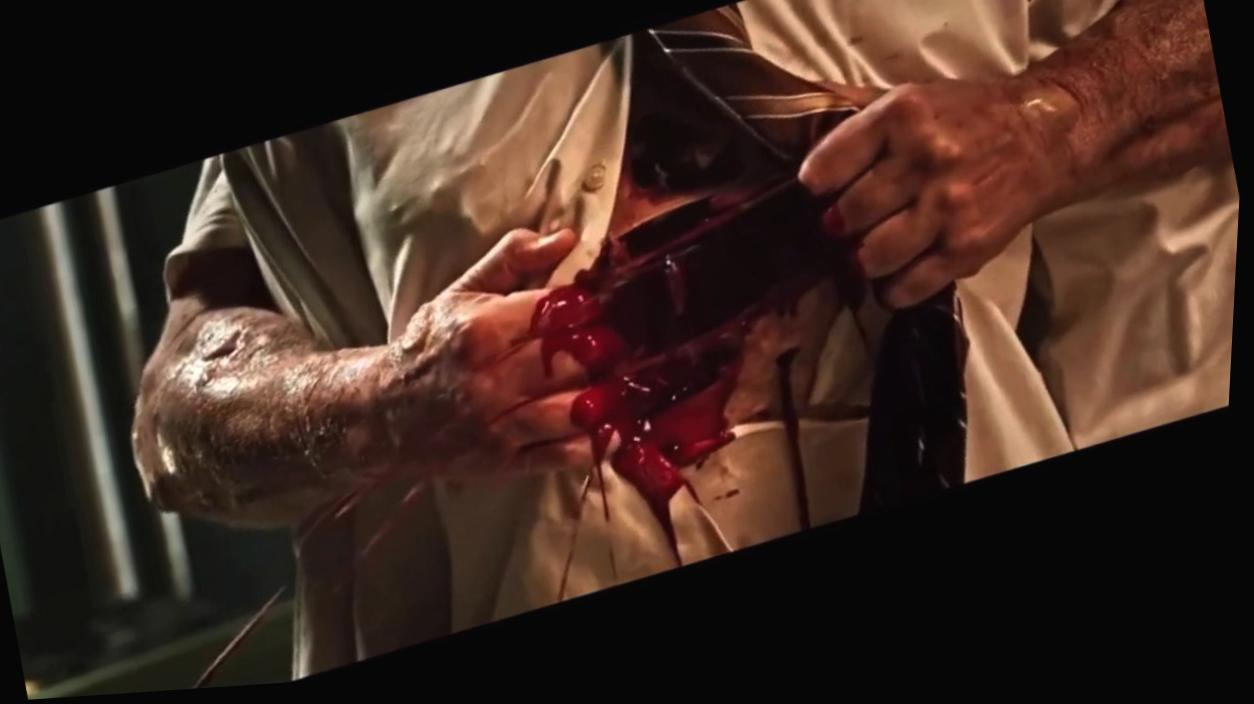Fire: (535, 133, 840, 538)
